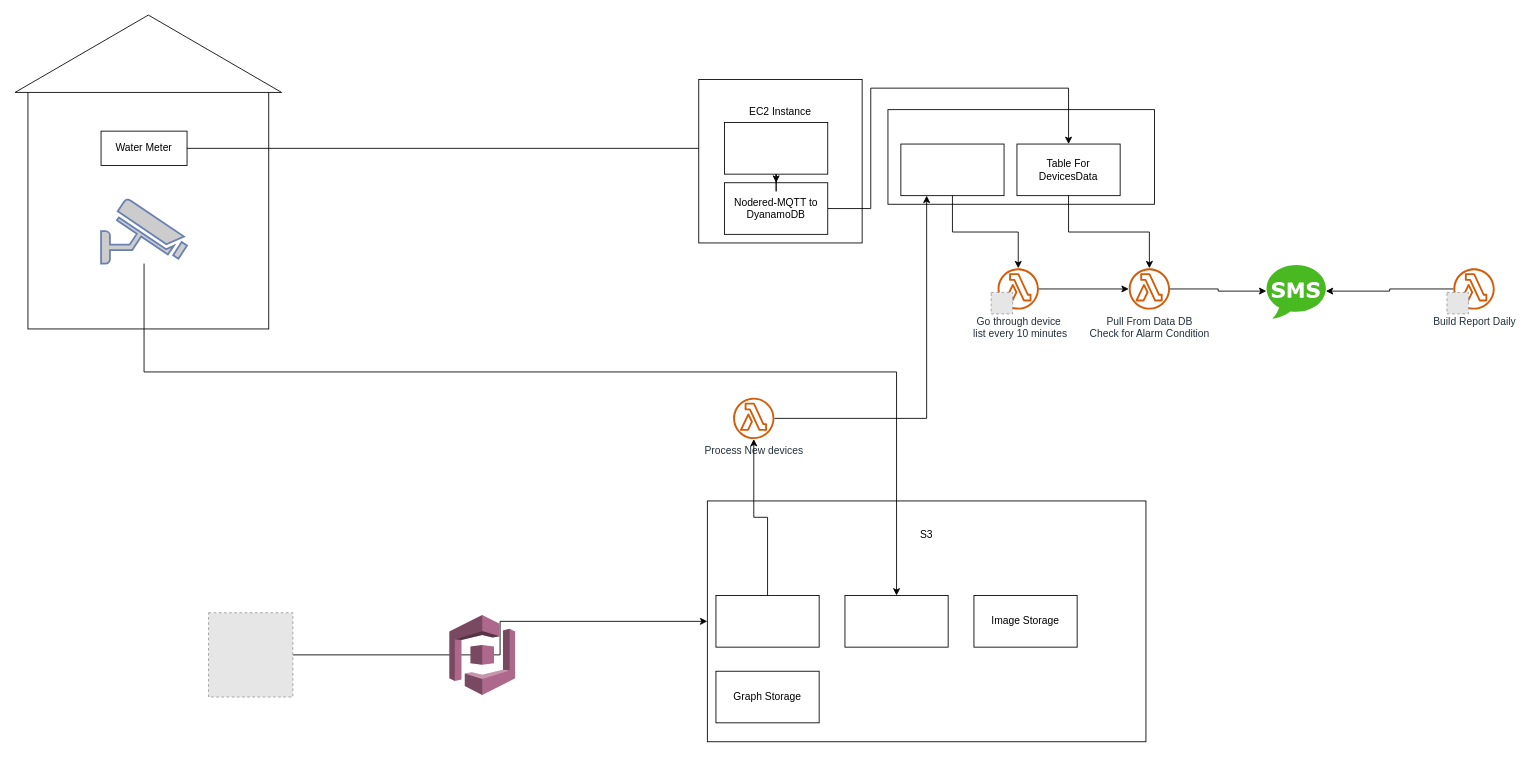
Some shapes in this 1530 by 757 pixel diagram are drawn without their labels. Grey dashed boxes stand in for pictures. Here are the shapes that lost their labels. From the top down, the box of each, then its label:
(724, 122, 828, 174): MQTT Broker
(887, 109, 1155, 204): DynamoDB
(900, 143, 1004, 196): Table For Device List With Users
(715, 595, 819, 647): Static Webpage
(844, 595, 948, 647): Video Storage
